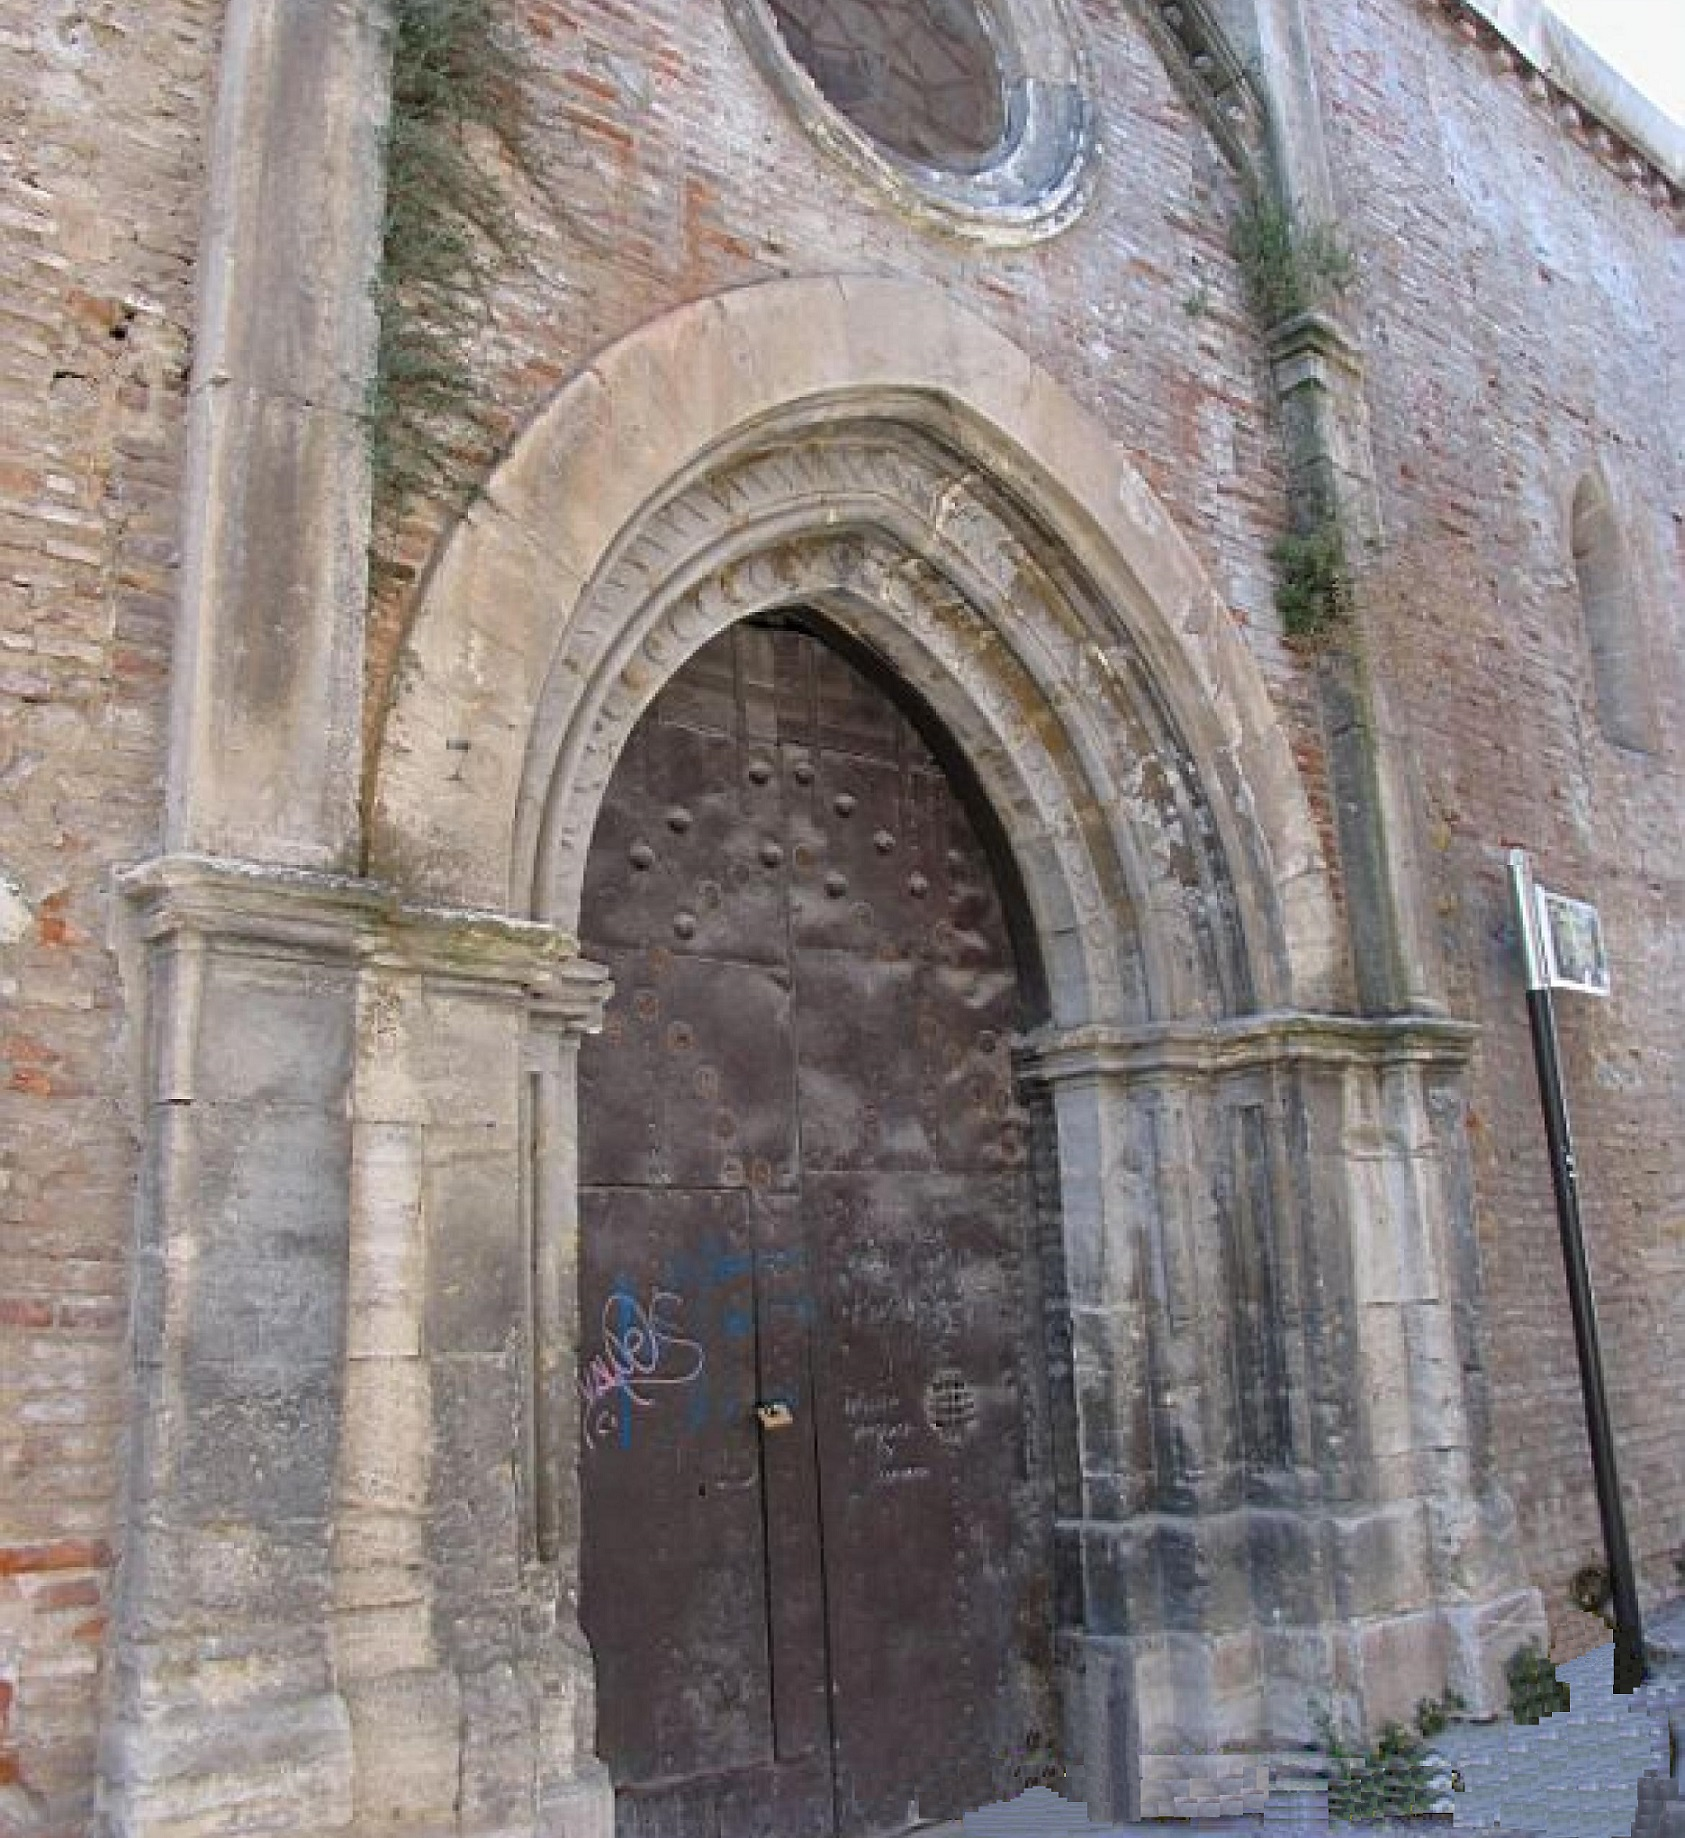arco-apuntado: (549, 500, 1156, 1094)
